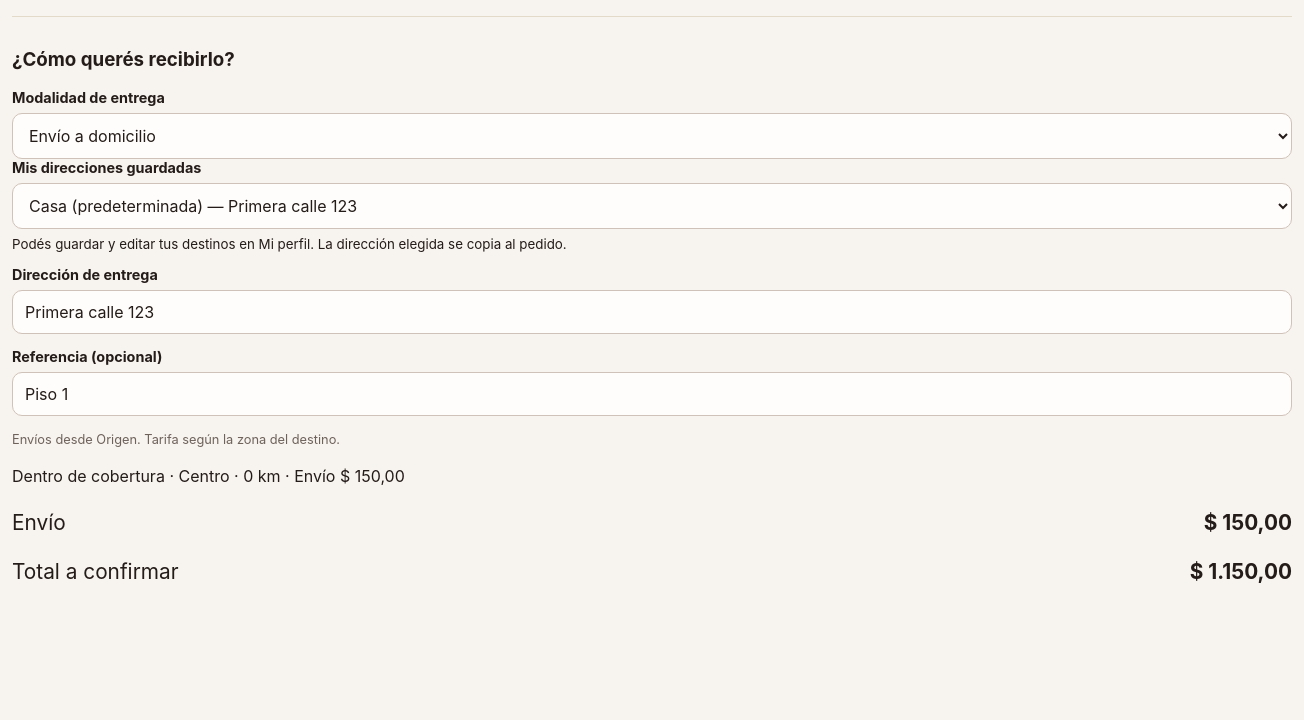
Test: cotiza la predeterminada y al cambiar espera la tarifa del nuevo destino
The width and height of the screenshot is (1304, 720).
Expected: the text "Dentro de cobertura · Centro · 0 km · Envío $ 150,00" is shown, [12,466,405,486]
Expected: the field labelled "Referencia (opcional)" holds "Piso 1", [12,372,1292,416]
Select "Trabajo — Otra calle 456" in the dropdown labelled "Mis direcciones guardadas" at (652, 206), box [12,183,1292,229]
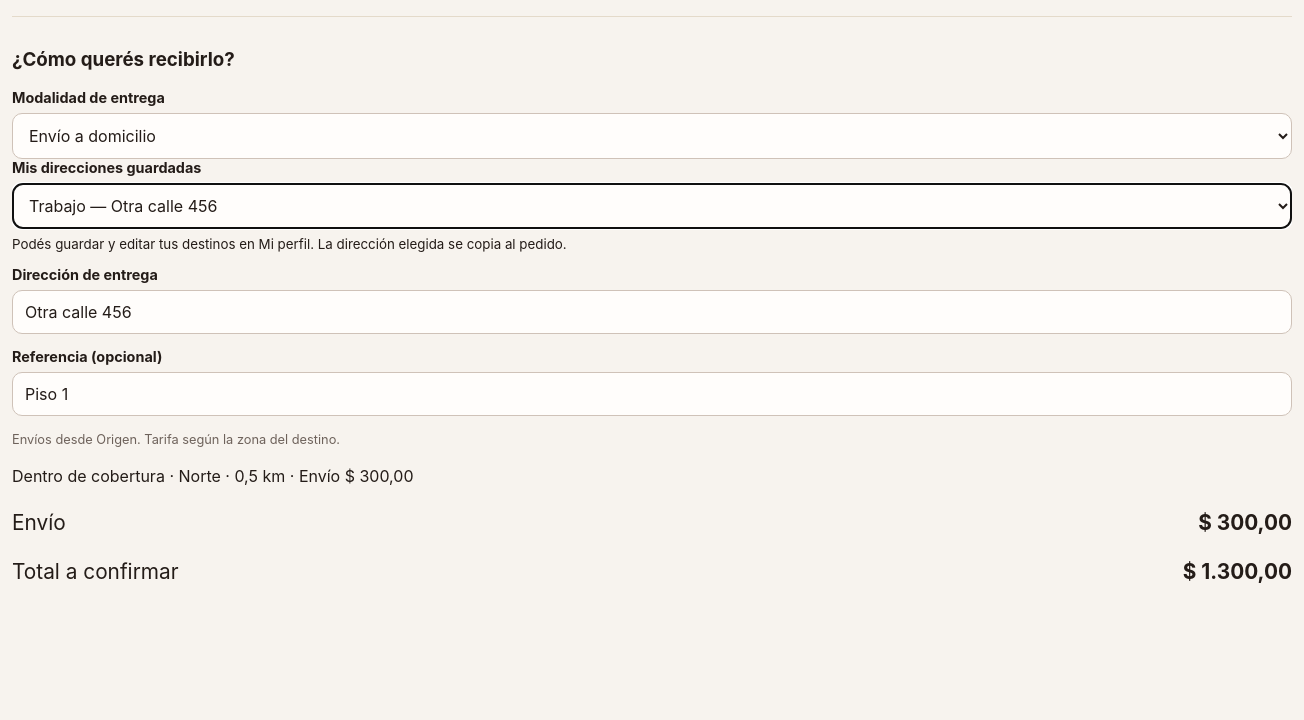
Expected: the field labelled "Dirección de entrega" holds "Otra calle 456", [12,290,1292,334]
Expected: the text "Dentro de cobertura · Norte · 0,5 km · Envío $ 300,00" is shown, [12,466,414,486]
